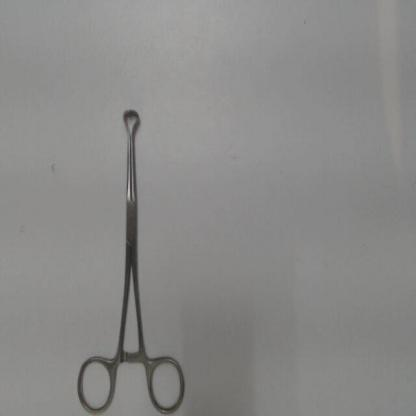Babcock Tissue Forceps: (74, 96, 189, 416)
